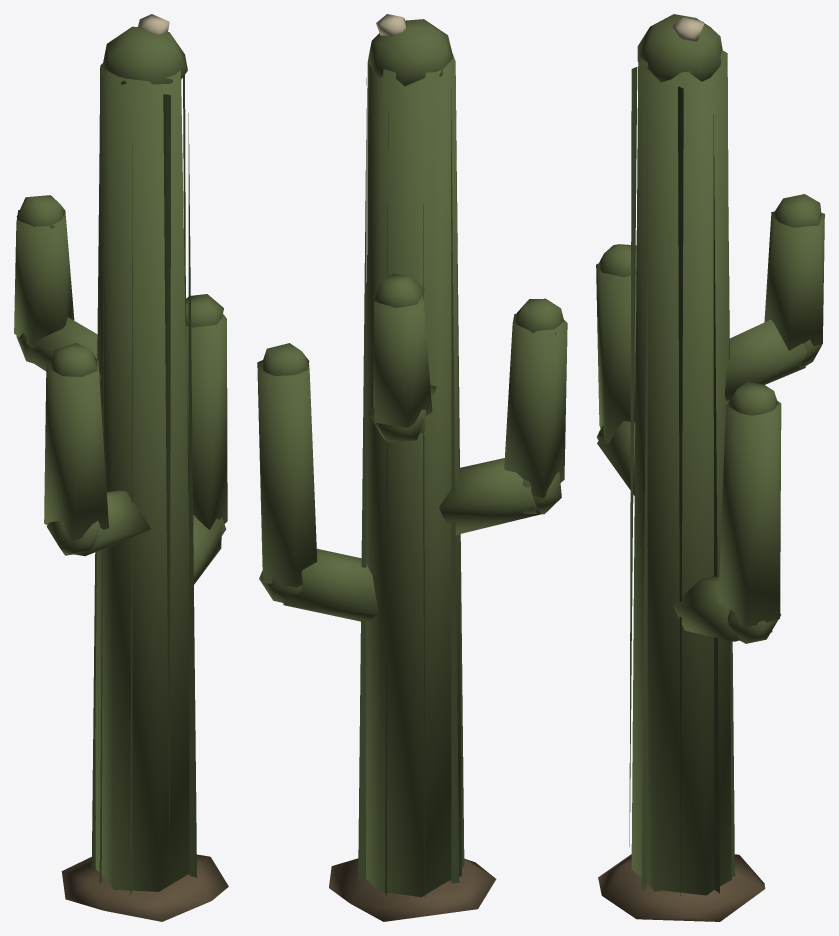
File: saguaro_b_lod2.glb
3 views of the same model, side by side, from view 1: azimuth 30°, elevation 25°; view 2: azimuth 150°, elevation 25°; view 3: azimuth 270°, elevation 25° (orthographic).
Parts seen in each view (by area): view 1: Surface.001; view 2: Surface.001; view 3: Surface.001.
Part boxes in pixels (<box>): Surface.001: <box>14,14,228,921</box>; Surface.001: <box>257,14,567,921</box>; Surface.001: <box>596,14,824,921</box>.
Bounding box in the file's own units: 1.68 × 5.91 × 1.38.
